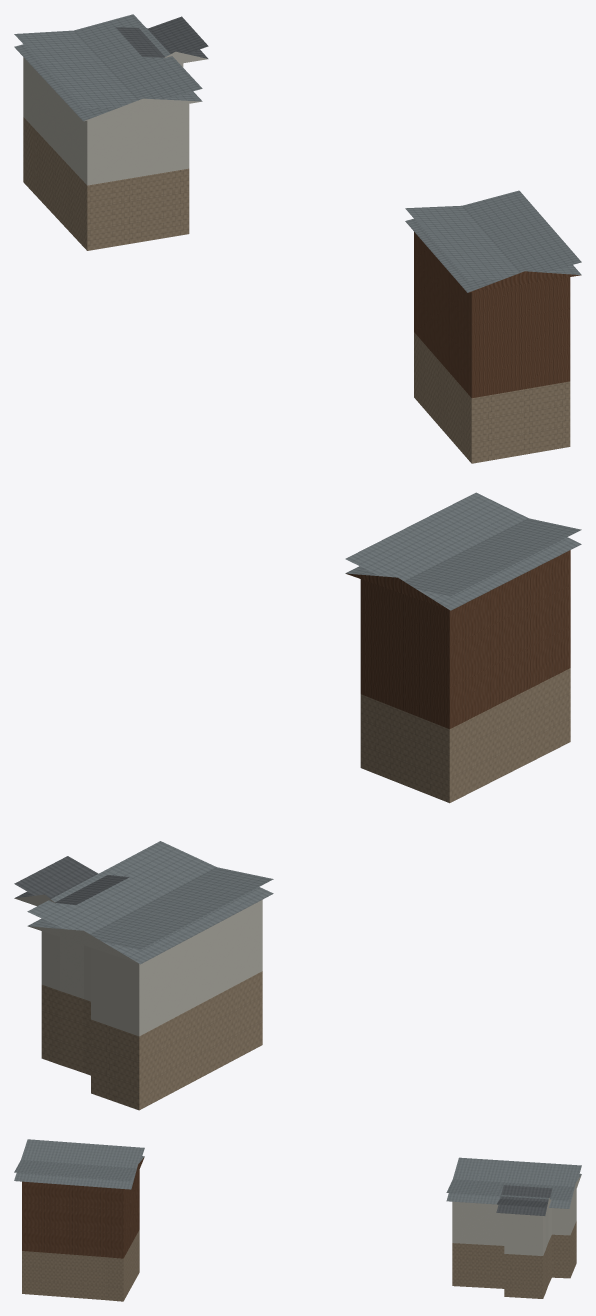
File: bld_c31_-38_460.gltf
3 views of the same model, one above another, from view 1: azimuth 30°, elevation 25°; view 2: azimuth 150°, elevation 25°; view 3: azimuth 270°, elevation 25° (orthographic). The views are drawn at different scales.
Visible parts, largest first — view 1: bld_c31_-38_460; view 2: bld_c31_-38_460; view 3: bld_c31_-38_460.
Part boxes in pixels (x1,y1,x2,y2): bld_c31_-38_460: (14, 14, 581, 463); bld_c31_-38_460: (14, 492, 581, 1110); bld_c31_-38_460: (14, 1139, 581, 1301).
Bounding box in the file's own units: 15.21 × 15.7 × 61.06.
Materials: 7 (7 with a texture image).
